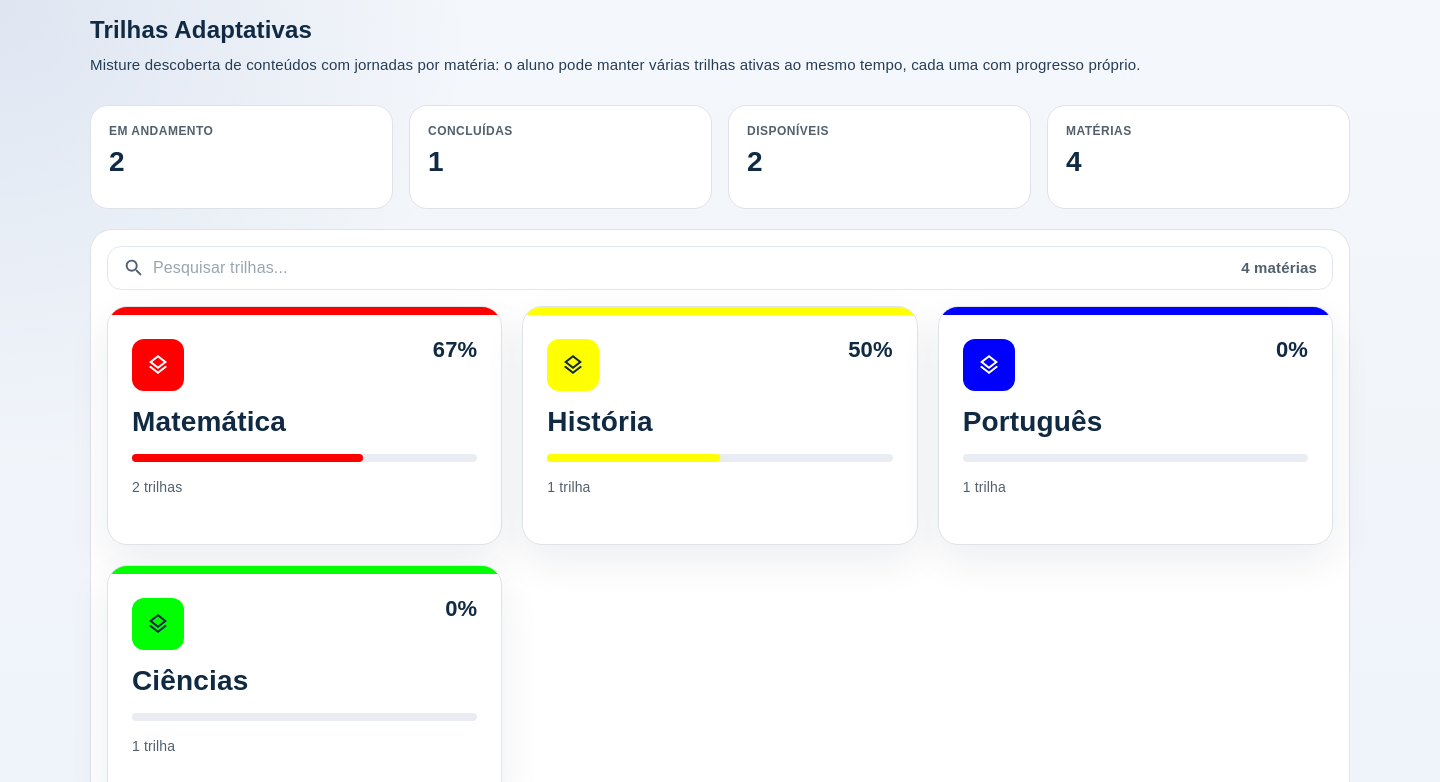
StudentAdaptiveTrailPage filters subject cards by trail search
This screenshot has width=1440, height=782.
Check: the text "Ciências" is shown, box x1=132 y1=665 x2=248 y2=696
Step 1. Type "eco" into the search field with placeholder "Pesquisar trilhas..." → (693, 268), box x1=153 y1=251 x2=1233 y2=284
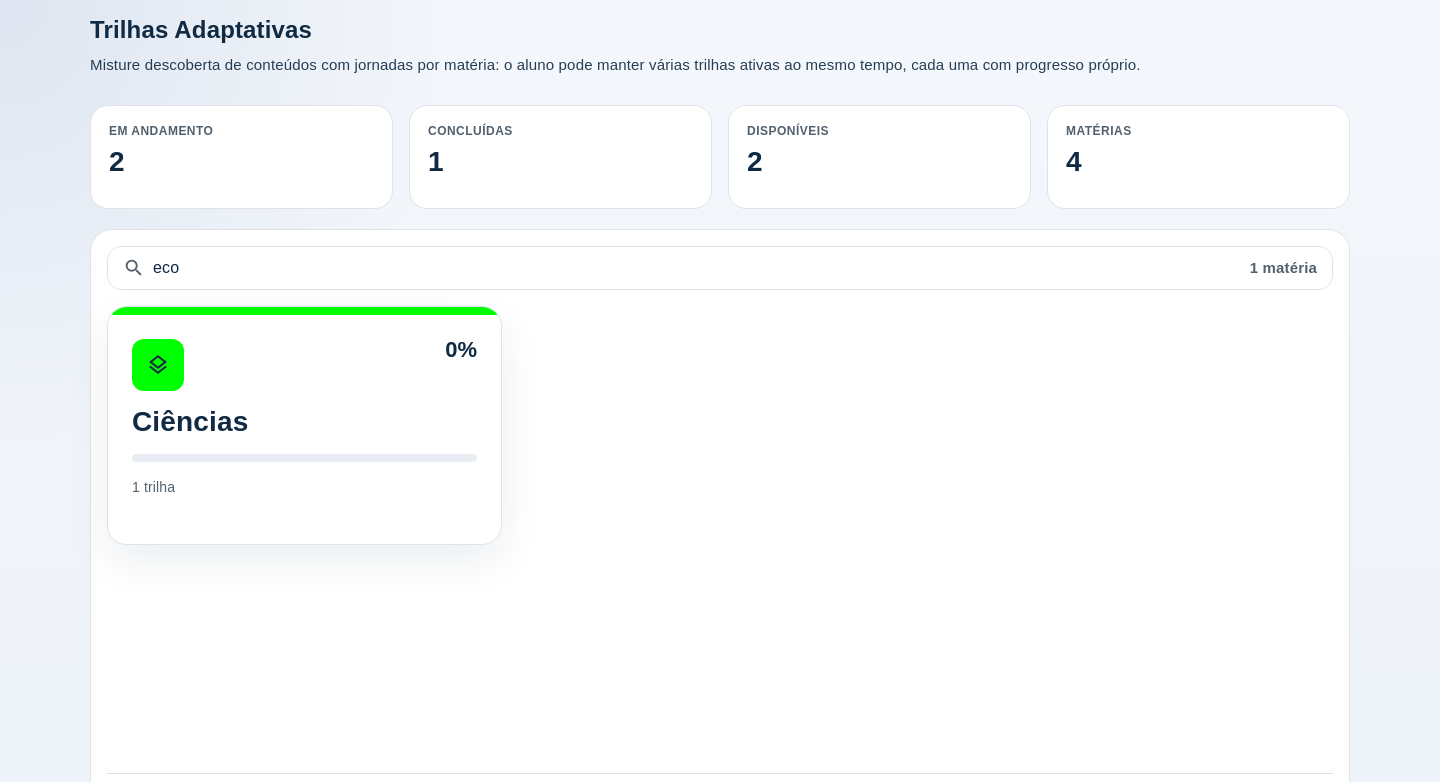
Check: the text "Ciências" is shown, box x1=132 y1=406 x2=248 y2=437
Check: the link "Matemática" is gone
Check: the text "1 matéria" is shown, box x1=1250 y1=256 x2=1317 y2=280
